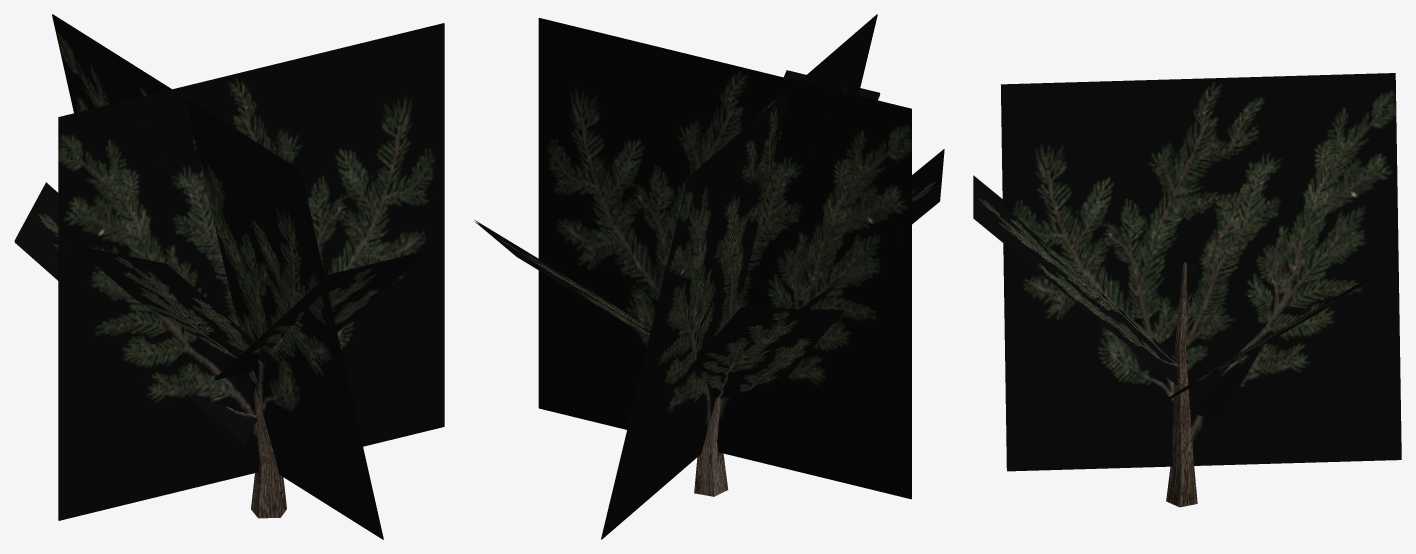
The model's file is mtns_shrb_evergreen_a2_l0.fbx.
The picture shows the model from 3 angles, left to right: view 1: azimuth 30°, elevation 25°; view 2: azimuth 150°, elevation 25°; view 3: azimuth 270°, elevation 25°; orthographic projection. The views are drawn at different scales.
Parts seen in each view (by area): view 1: mesh_node; view 2: mesh_node; view 3: mesh_node.
Boxes of the visible parts, bbox=[...] form: mesh_node: bbox=[14, 14, 444, 539]; mesh_node: bbox=[474, 14, 944, 539]; mesh_node: bbox=[973, 73, 1401, 507].
Bounding box in the file's own units: 3.11 × 3.37 × 3.31.
